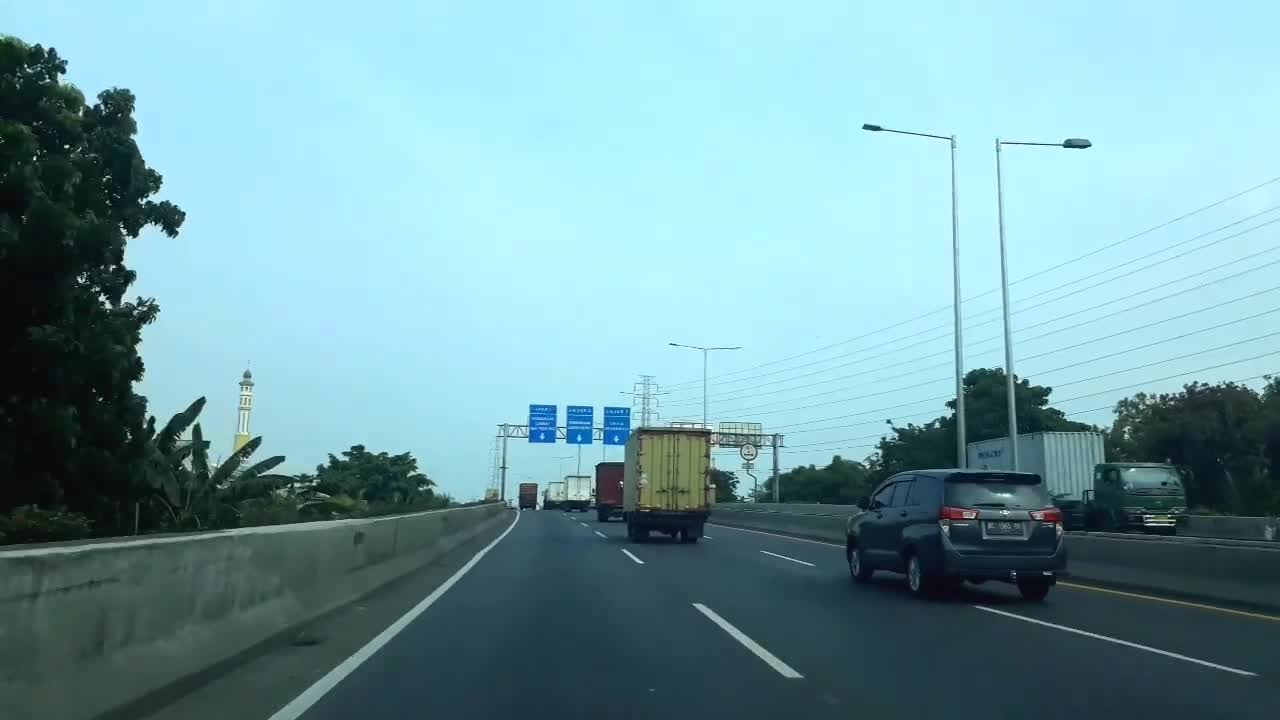plate_positive: (984, 520, 1024, 536)
